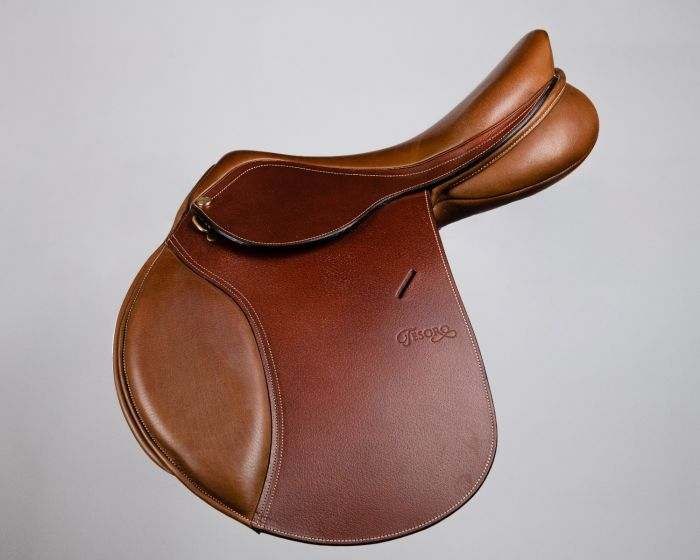saddle: (72, 84, 650, 458)
